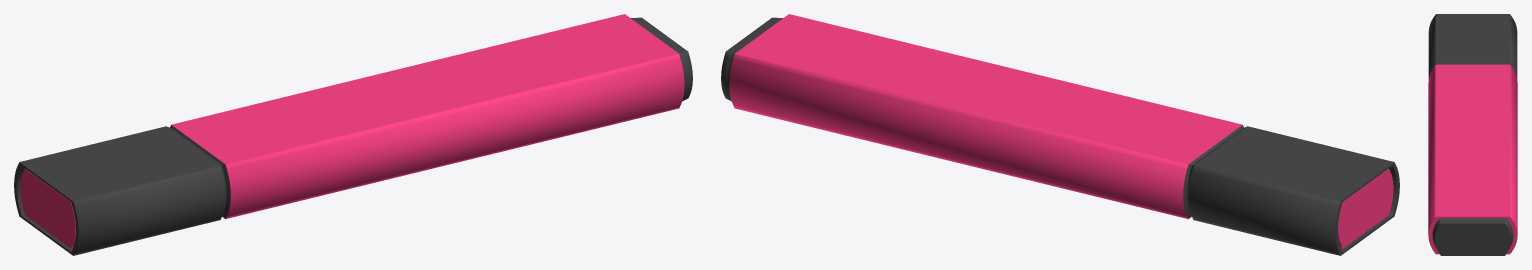
The model's file is Highlighter.fbx.
3 renders of one model, left to right at view 1: azimuth 30°, elevation 25°; view 2: azimuth 150°, elevation 25°; view 3: azimuth 270°, elevation 25°, orthographic. The views are drawn at different scales.
Parts seen in each view (by area): view 1: Окружность; view 2: Окружность; view 3: Окружность.
Part boxes in pixels (x1,y1,x2,y2): Окружность: [14, 14, 692, 255]; Окружность: [721, 14, 1399, 255]; Окружность: [1428, 14, 1517, 255].
Bounding box in the file's own units: 114 × 9.66 × 20.78.
